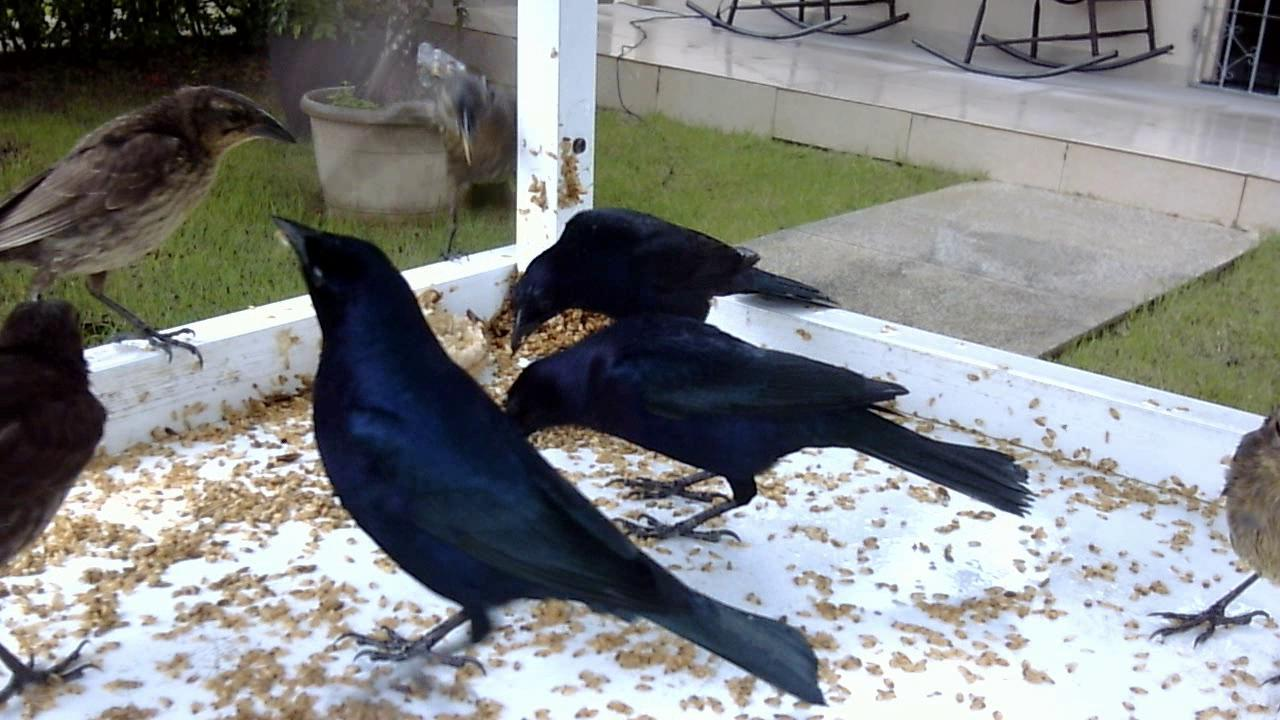chupim: (264, 223, 859, 693), (465, 270, 1040, 567), (1, 77, 302, 390), (1, 282, 133, 716), (498, 195, 852, 356), (1134, 381, 1280, 671)
